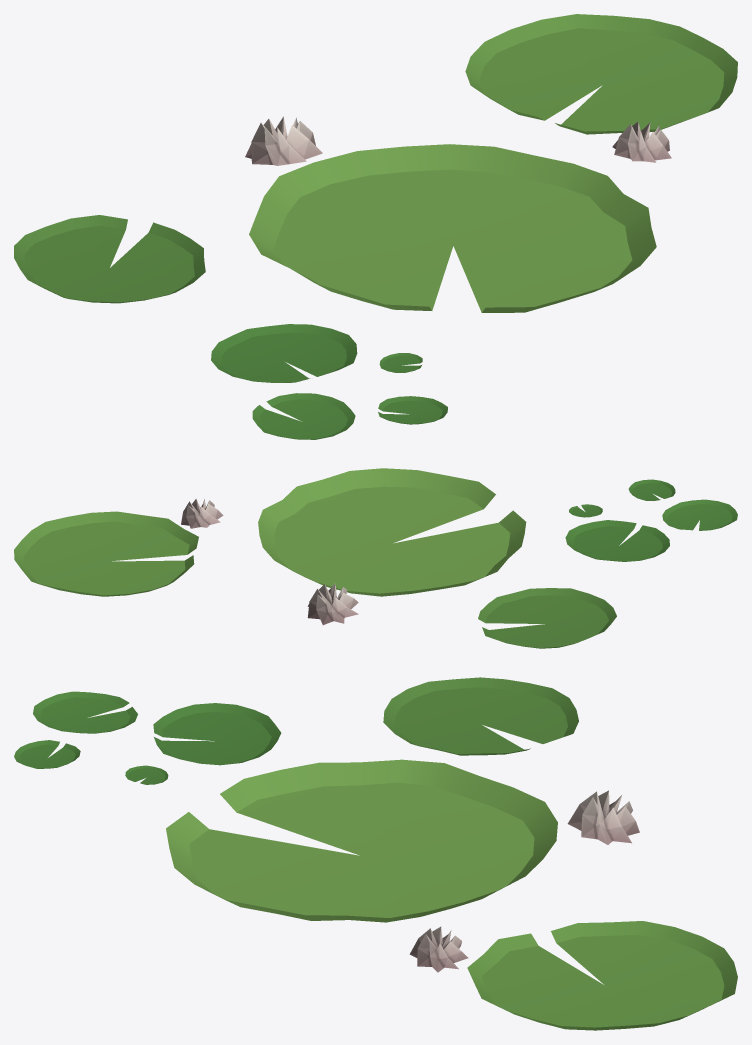
Rendered from lily_pad_3.glb.
3 views of the same model, one above another, from view 1: azimuth 30°, elevation 25°; view 2: azimuth 150°, elevation 25°; view 3: azimuth 270°, elevation 25° (orthographic). The views are drawn at different scales.
Visible parts, largest first — view 1: lily_pad_3; view 2: lily_pad_3; view 3: lily_pad_3.
Part boxes in pixels (bbox=[...]): lily_pad_3: bbox=[14, 14, 737, 439]; lily_pad_3: bbox=[14, 468, 737, 648]; lily_pad_3: bbox=[14, 677, 737, 1030].
Bounding box in the file's own units: 3 × 0.16 × 2.6.
Materials: 2 (2 with a texture image).
